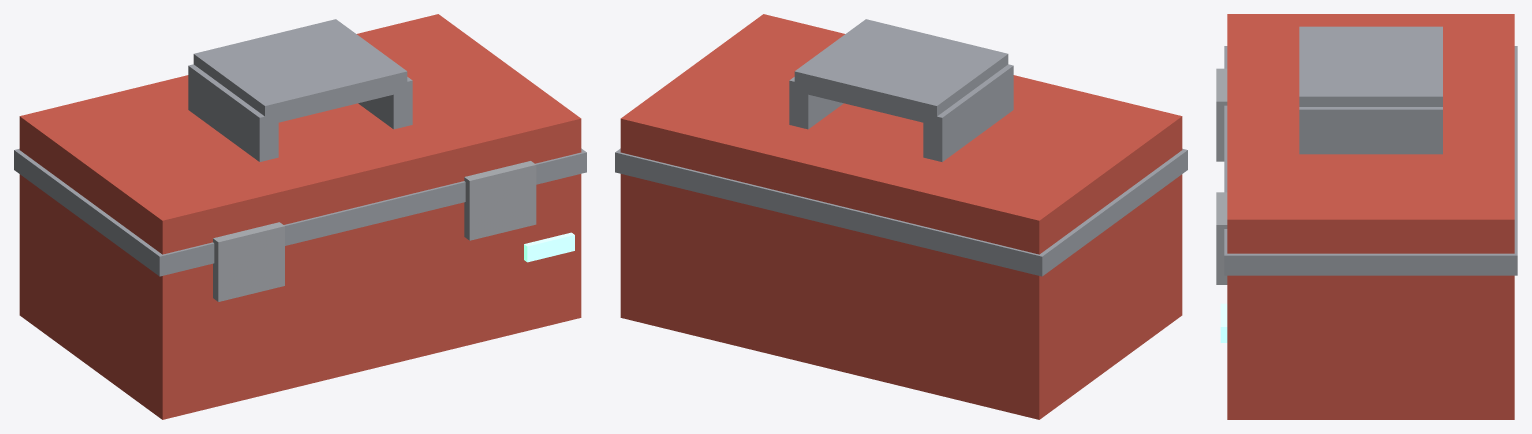
Rendered from prop_toolbox.glb.
3 views of the same model, side by side, from view 1: azimuth 30°, elevation 25°; view 2: azimuth 150°, elevation 25°; view 3: azimuth 270°, elevation 25° (orthographic).
Visible parts, largest first — view 1: prop_toolbox; view 2: prop_toolbox; view 3: prop_toolbox.
Part boxes in pixels (x1,y1,x2,y2): prop_toolbox: [14, 14, 586, 419]; prop_toolbox: [615, 14, 1187, 419]; prop_toolbox: [1216, 14, 1517, 419].
Bounding box in the file's own units: 0.4488 × 0.255 × 0.2726.
